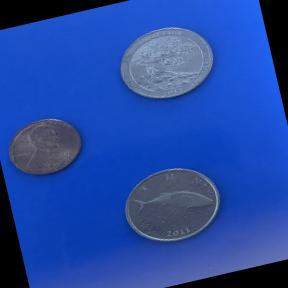Croatia-2Kune-B: (110, 153, 234, 257)
US-1cent-B: (0, 107, 93, 188)
US-25cent-B: (106, 13, 227, 116)
